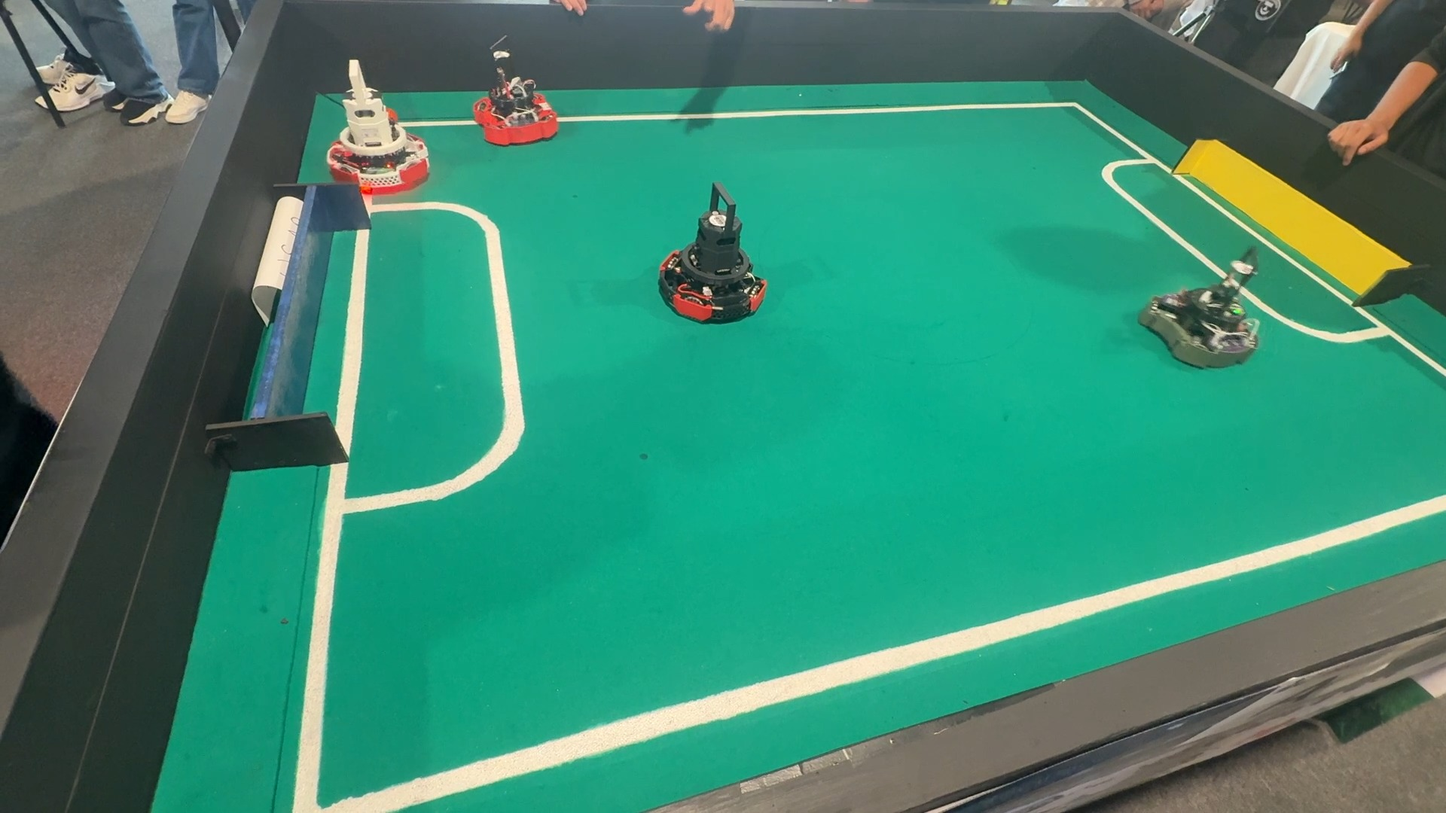Robot: (1114, 239, 1291, 376), (659, 182, 783, 342), (322, 63, 439, 191), (470, 37, 568, 153)
